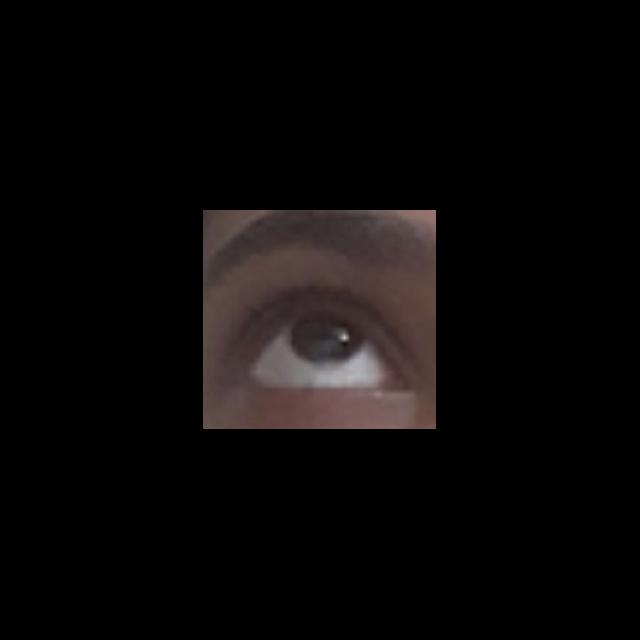eye: (253, 315, 389, 391)
iris: (292, 317, 364, 360)
